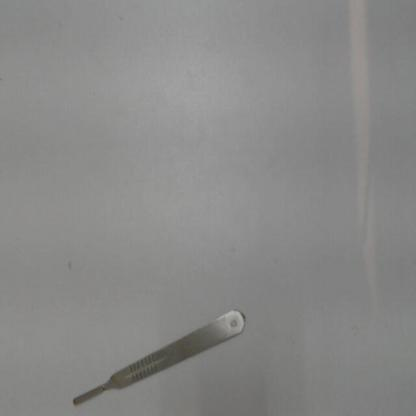No.4 BP Handle: (62, 300, 251, 412)
